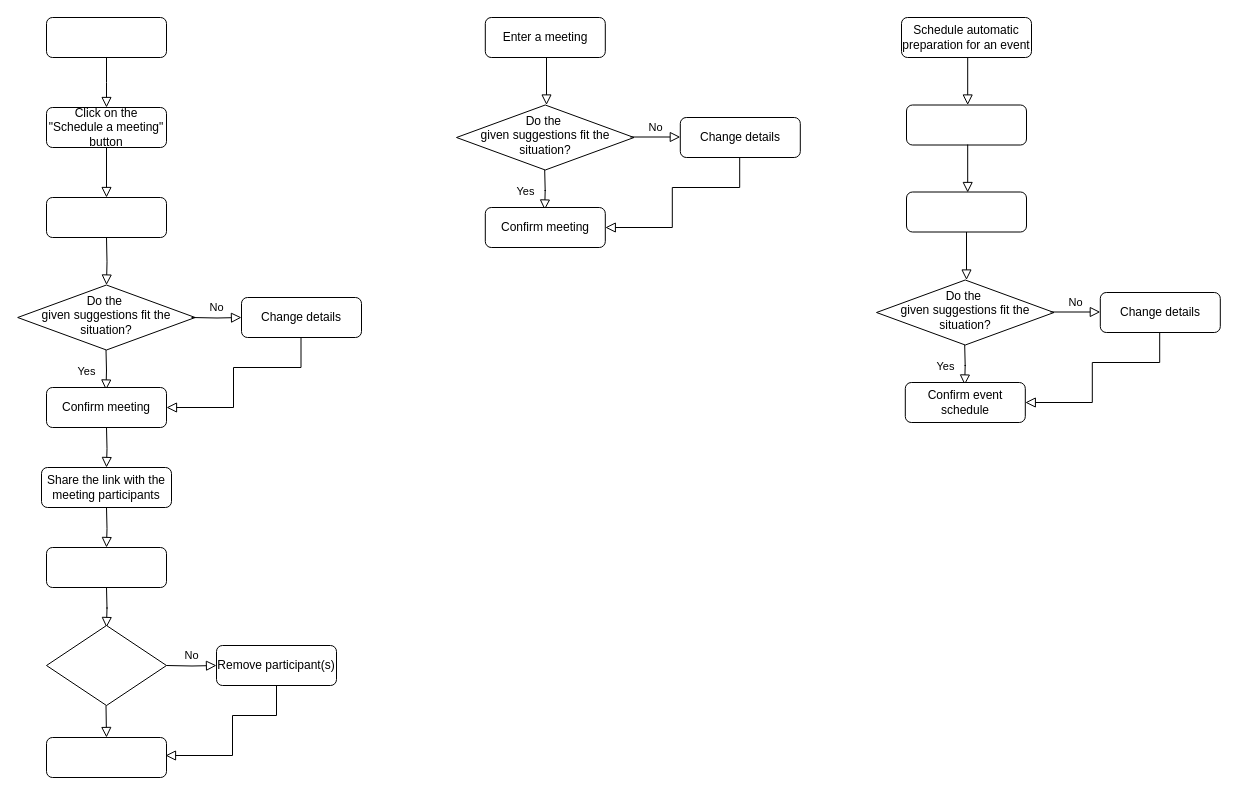
Image size: 1238x795. Some labels were removed from this diagram. Here are the shapes that lost their labels. From the top down, the box of each, then its label:
(46, 16, 166, 58): Schedule a meeting
(906, 104, 1026, 145): Mark a new event
(46, 196, 166, 238): Input the meeting title
(906, 191, 1026, 232): Select preparation time
(46, 546, 166, 588): Wait for the meeting participants
(46, 624, 166, 706): Should all participants be at the meeting?
(46, 736, 166, 778): Book meeting
